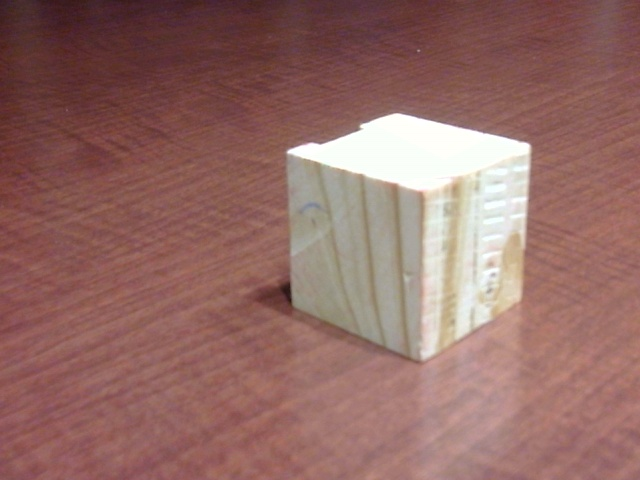NormalBlock: (283, 144, 526, 360)
